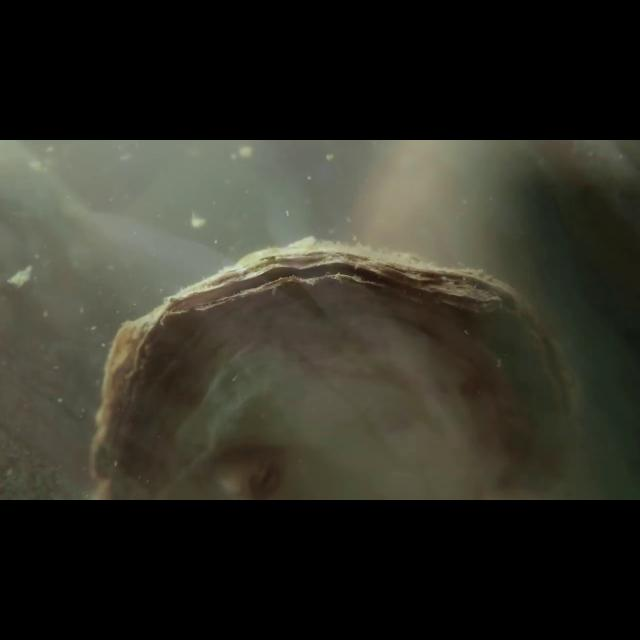Oyster-Open: (76, 233, 593, 497)
